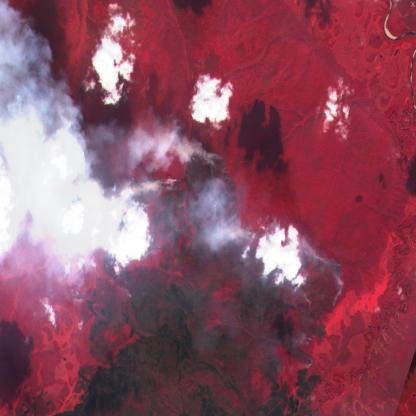fire: (78, 145, 347, 368)
